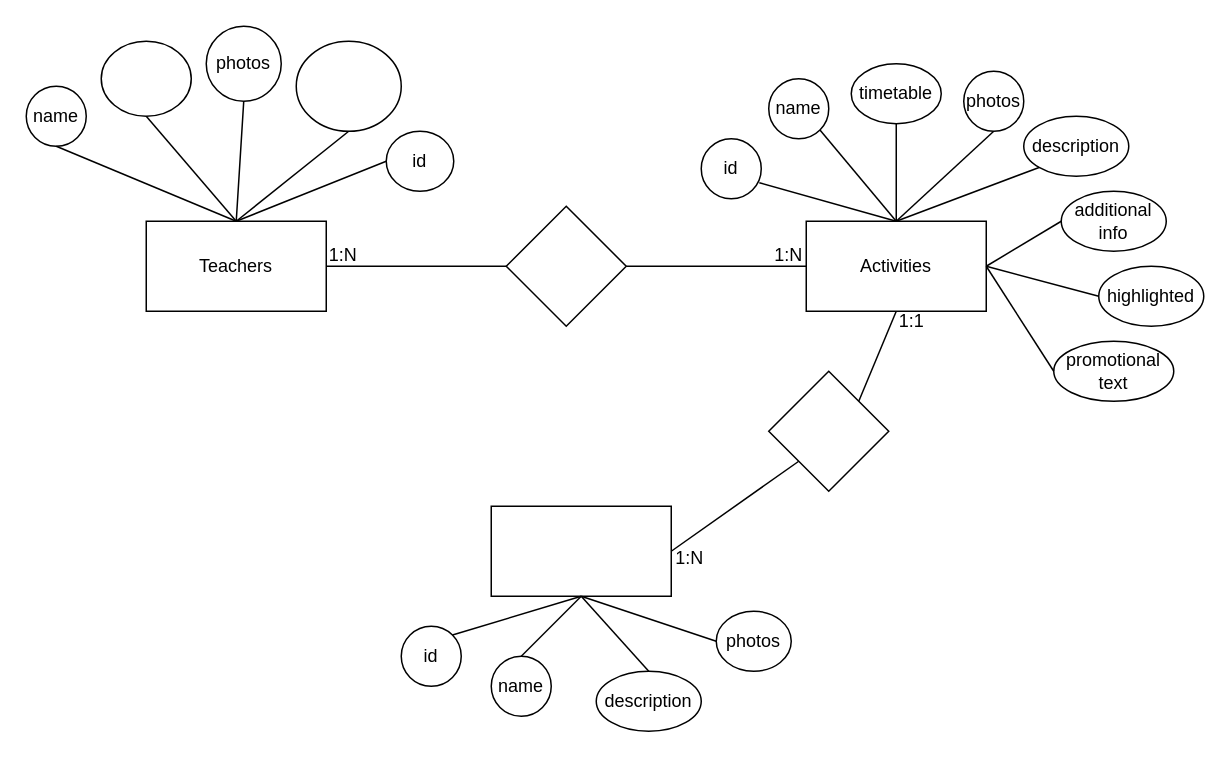
The diagram is 1230 pixels wide and 758 high, and some of its shapes have lost their labels. Here are the shapes that lost their labels. From the top down, the centre of each, then its label:
At point (145, 78): "surname".
At point (348, 85): "Experiences".
At point (565, 265): "Teacher Activity".
At point (828, 430): "Activity Category".
At point (580, 550): "Categories".
